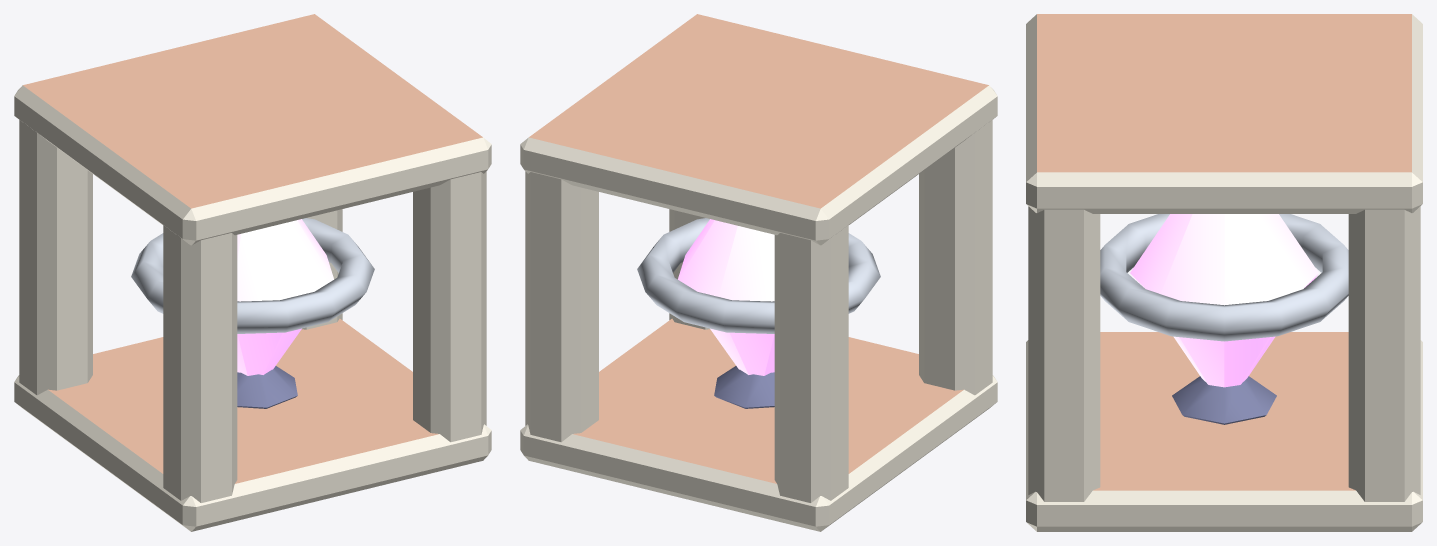
The model's file is R4X_CoreBooster_LOD1.fbx.
3 renders of one model, left to right at view 1: azimuth 30°, elevation 25°; view 2: azimuth 150°, elevation 25°; view 3: azimuth 270°, elevation 25°, orthographic. The views are drawn at different scales.
Parts seen in each view (by area): view 1: R4X_CoreBooster_LOD1; view 2: R4X_CoreBooster_LOD1; view 3: R4X_CoreBooster_LOD1.
Boxes of the visible parts, x1,y1,x2,y2 form: R4X_CoreBooster_LOD1: (14, 14, 491, 531); R4X_CoreBooster_LOD1: (520, 14, 997, 531); R4X_CoreBooster_LOD1: (1026, 14, 1422, 531).
Bounding box in the file's own units: 0.52 × 0.52 × 0.52.
